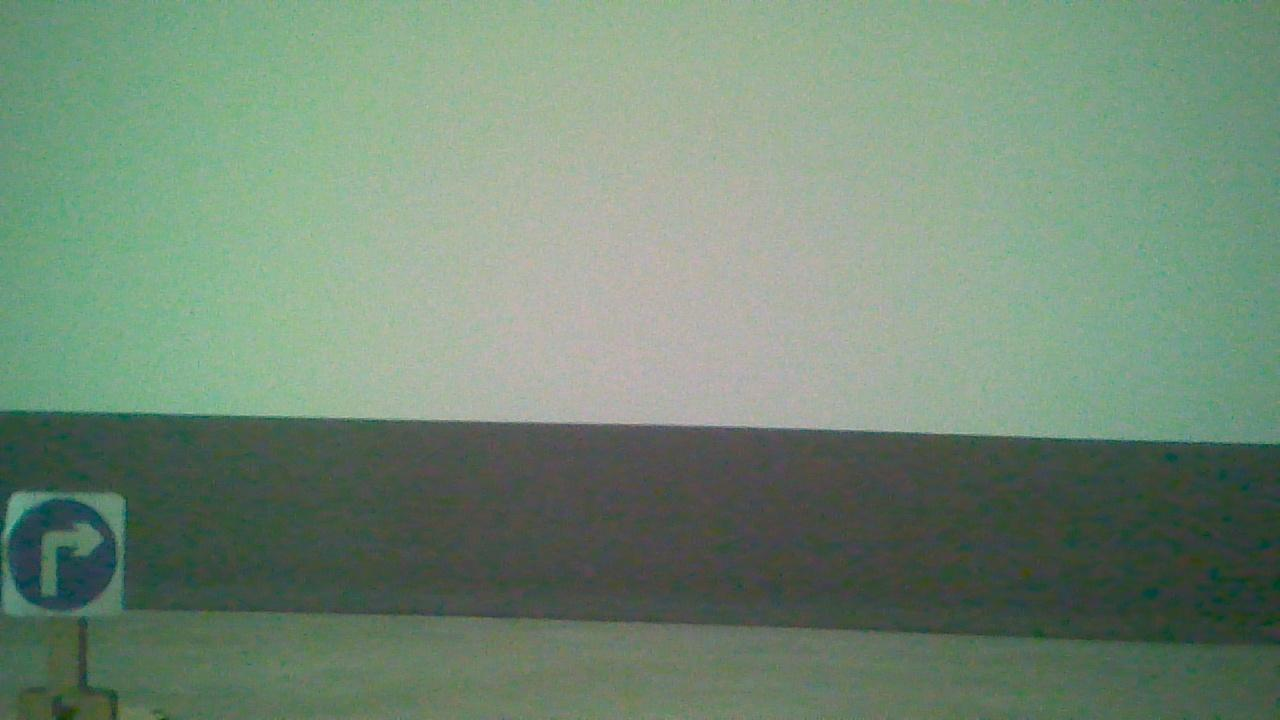turn: (0, 488, 124, 610)
